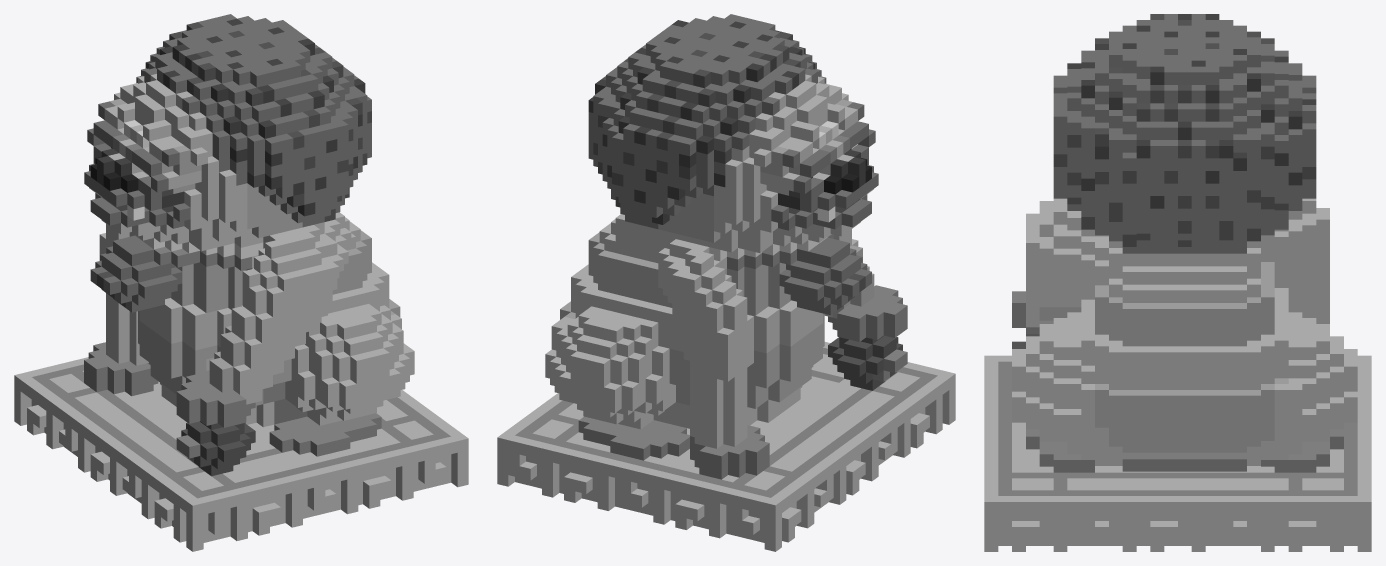
File: Lion.fbx
3 views of the same model, side by side, from view 1: azimuth 30°, elevation 25°; view 2: azimuth 150°, elevation 25°; view 3: azimuth 270°, elevation 25° (orthographic). The views are drawn at different scales.
Visible parts, largest first — view 1: Lion:Lion; view 2: Lion:Lion; view 3: Lion:Lion.
Part boxes in pixels (x1,y1,x2,y2): Lion:Lion: [14, 14, 468, 551]; Lion:Lion: [497, 14, 955, 551]; Lion:Lion: [984, 14, 1371, 551].
Size of the model in its own units: 25 by 35 by 28.
